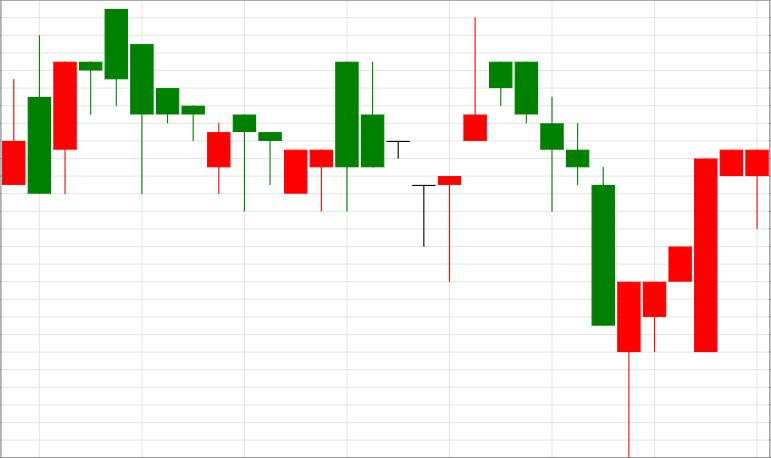hammer_rise: (489, 61, 641, 457)
